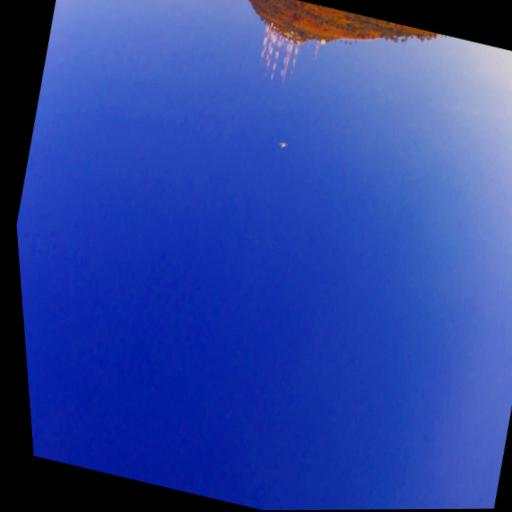drones: (274, 136, 289, 151)
